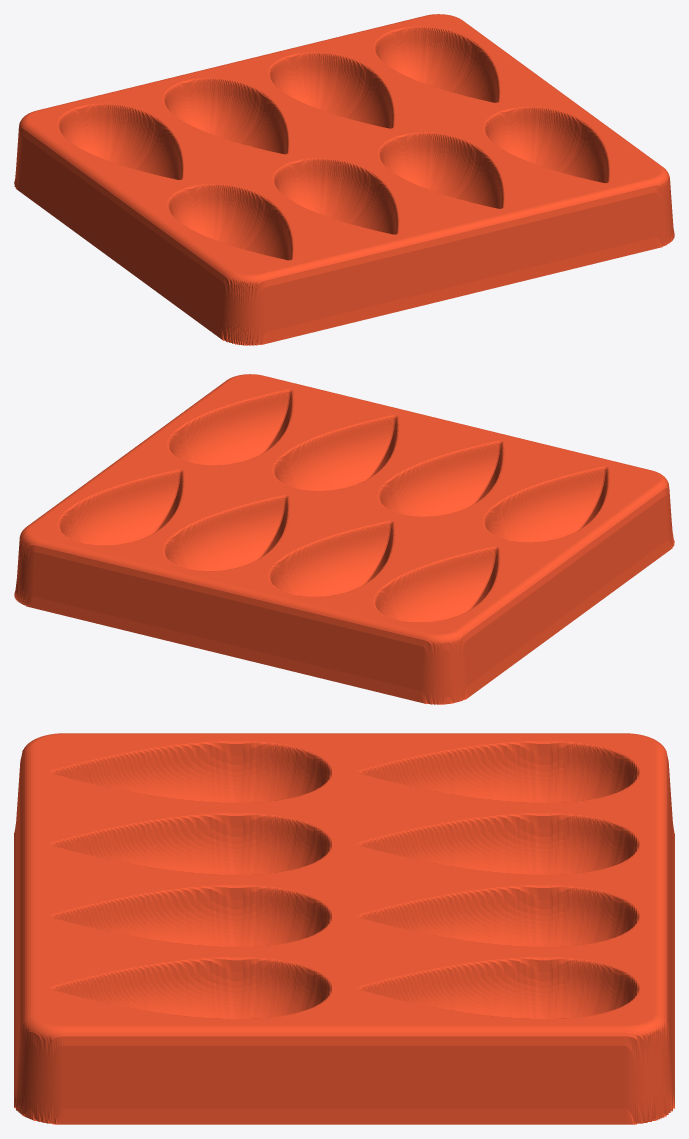
The model's file is mold.glb.
3 renders of one model, top to bottom at view 1: azimuth 30°, elevation 25°; view 2: azimuth 150°, elevation 25°; view 3: azimuth 270°, elevation 25°, orthographic. The views are drawn at different scales.
Visible parts, largest first — view 1: geometry_0; view 2: geometry_0; view 3: geometry_0.
Part boxes in pixels (x1,y1,x2,y2): geometry_0: [14, 14, 674, 345]; geometry_0: [14, 374, 674, 704]; geometry_0: [14, 733, 674, 1124].
Size of the model in its own units: 0.1346 by 0.0185 by 0.1222.
